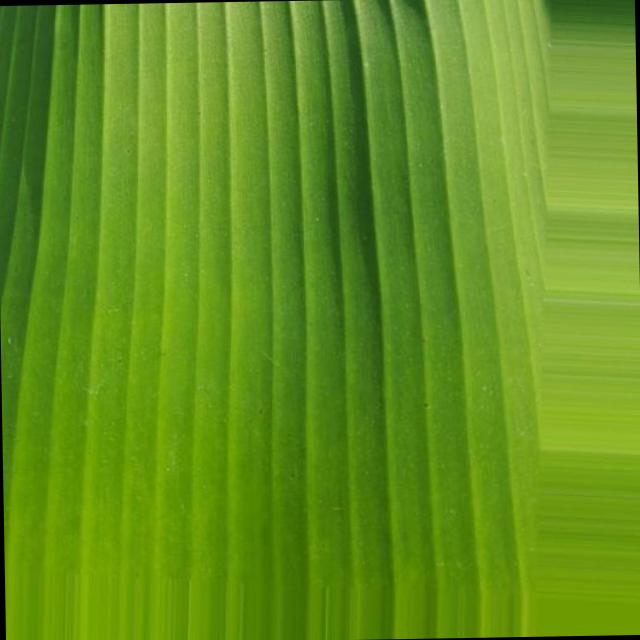Banana_Healthy: (82, 82, 483, 553)
